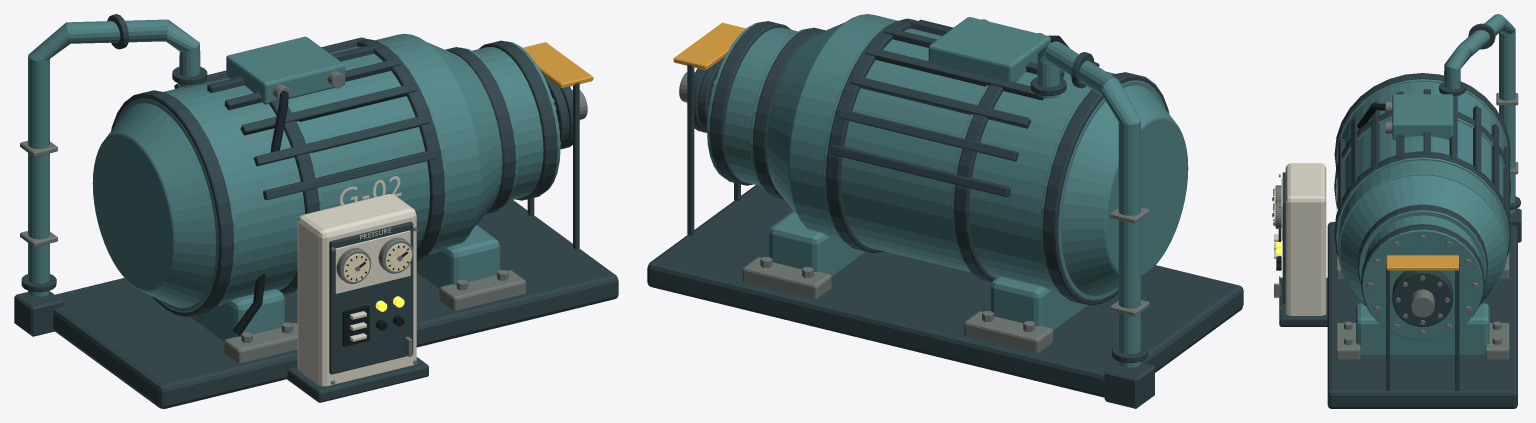
The model's file is turbine-generator.glb.
The picture shows the model from 3 angles, left to right: view 1: azimuth 30°, elevation 25°; view 2: azimuth 150°, elevation 25°; view 3: azimuth 270°, elevation 25°; orthographic projection. The views are drawn at different scales.
Visible parts, largest first — view 1: turbine-generator__turbine-generator__petrol, turbine-generator__turbine-generator__steel, turbine-generator__turbine-generator__ivory, turbine-generator__turbine-generator__hardware, turbine-generator__turbine-generator__rubber, turbine-generator__turbine-generator__amber, turbine-generator__turbine-generator__gauge-face; view 2: turbine-generator__turbine-generator__petrol, turbine-generator__turbine-generator__steel, turbine-generator__turbine-generator__hardware, turbine-generator__turbine-generator__amber; view 3: turbine-generator__turbine-generator__petrol, turbine-generator__turbine-generator__steel, turbine-generator__turbine-generator__ivory, turbine-generator__turbine-generator__hardware, turbine-generator__turbine-generator__amber, turbine-generator__turbine-generator__rubber.
Boxes of the visible parts, bbox=[...] form: turbine-generator__turbine-generator__petrol: bbox=[28, 19, 560, 340]; turbine-generator__turbine-generator__steel: bbox=[14, 14, 618, 408]; turbine-generator__turbine-generator__ivory: bbox=[297, 176, 416, 386]; turbine-generator__turbine-generator__hardware: bbox=[20, 71, 587, 384]; turbine-generator__turbine-generator__rubber: bbox=[232, 91, 409, 346]; turbine-generator__turbine-generator__amber: bbox=[522, 42, 593, 88]; turbine-generator__turbine-generator__gauge-face: bbox=[343, 243, 411, 281]; turbine-generator__turbine-generator__petrol: bbox=[707, 14, 1188, 367]; turbine-generator__turbine-generator__steel: bbox=[647, 18, 1243, 408]; turbine-generator__turbine-generator__hardware: bbox=[679, 19, 1152, 352]; turbine-generator__turbine-generator__amber: bbox=[673, 22, 745, 70]; turbine-generator__turbine-generator__petrol: bbox=[1336, 14, 1515, 354]; turbine-generator__turbine-generator__steel: bbox=[1279, 23, 1521, 408]; turbine-generator__turbine-generator__ivory: bbox=[1274, 163, 1336, 315]; turbine-generator__turbine-generator__hardware: bbox=[1272, 93, 1518, 359]; turbine-generator__turbine-generator__amber: bbox=[1386, 255, 1458, 270]; turbine-generator__turbine-generator__rubber: bbox=[1272, 103, 1385, 270].
Size of the model in its own units: 5.25 by 3.08 by 2.95.
